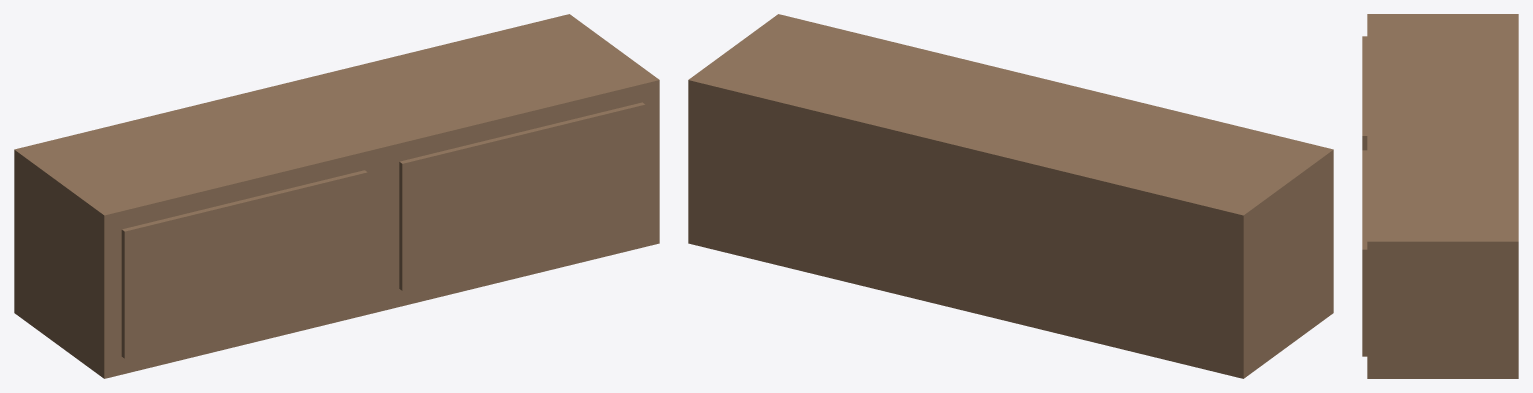
The model's file is fu_tv_stand.glb.
The picture shows the model from 3 angles, left to right: view 1: azimuth 30°, elevation 25°; view 2: azimuth 150°, elevation 25°; view 3: azimuth 270°, elevation 25°; orthographic projection. The views are drawn at different scales.
Visible parts, largest first — view 1: fu_tv_stand; view 2: fu_tv_stand; view 3: fu_tv_stand.
Part boxes in pixels (x1=…): fu_tv_stand: x1=14, y1=14, x2=659, y2=378; fu_tv_stand: x1=688, y1=14, x2=1333, y2=378; fu_tv_stand: x1=1362, y1=14, x2=1518, y2=378.
Bounding box in the file's own units: 1.6 × 0.45 × 0.465.
